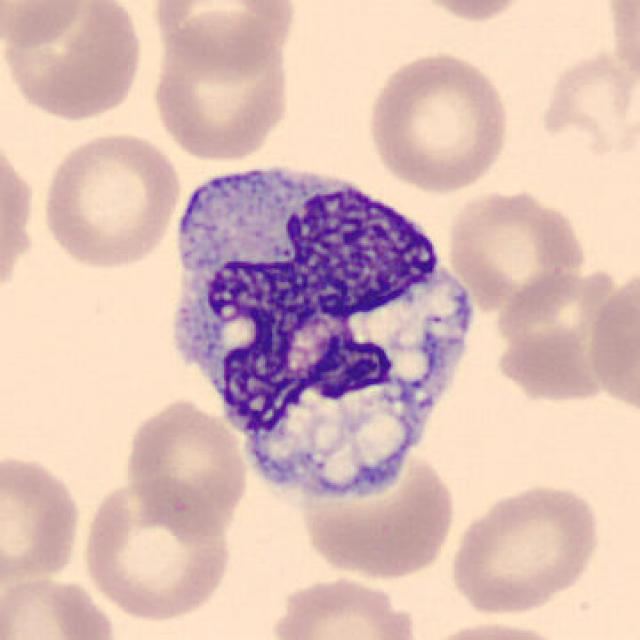Monocyte: (153, 141, 494, 511)
RBC: (294, 442, 461, 582), (78, 478, 236, 624), (146, 12, 295, 164), (444, 478, 604, 619), (362, 48, 514, 194), (37, 127, 183, 271), (442, 184, 588, 318), (119, 395, 253, 541), (492, 263, 623, 402), (0, 0, 147, 123), (0, 447, 85, 587), (145, 0, 300, 72), (265, 573, 421, 640), (583, 261, 638, 423), (2, 571, 119, 640), (0, 128, 39, 306), (0, 0, 92, 53), (601, 0, 640, 97), (412, 617, 574, 640), (398, 0, 540, 25)
